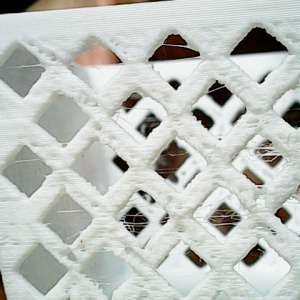3dpstringing: (116, 194, 176, 242), (194, 195, 245, 240), (52, 203, 96, 246), (235, 138, 285, 170), (116, 105, 165, 136), (151, 41, 202, 70), (154, 150, 194, 178), (6, 152, 46, 171), (8, 59, 51, 74), (81, 66, 121, 80), (205, 83, 230, 99), (88, 274, 111, 291), (284, 188, 299, 208), (39, 219, 54, 231), (234, 260, 244, 275), (255, 246, 265, 259), (185, 249, 194, 258), (199, 255, 203, 262)
3dpunderextrusion: (77, 89, 112, 141), (120, 247, 168, 283), (250, 186, 281, 239), (24, 38, 66, 64), (58, 245, 99, 268), (176, 201, 191, 241)
